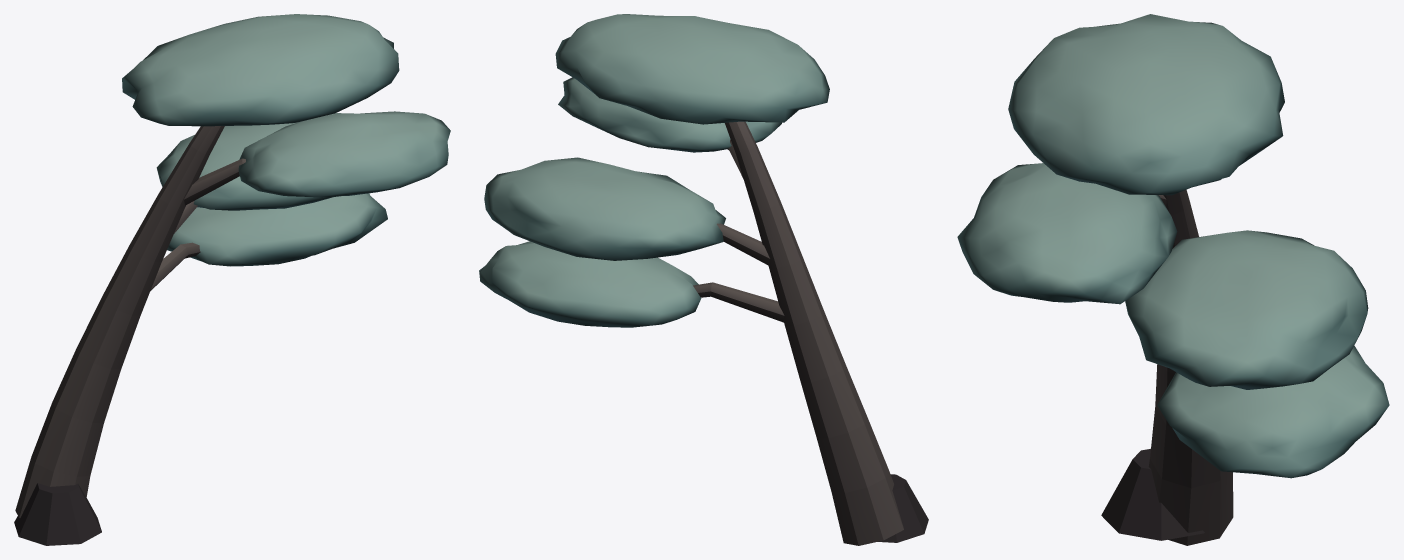
Rendered from pine_large.glb.
The picture shows the model from 3 angles, left to right: view 1: azimuth 30°, elevation 25°; view 2: azimuth 150°, elevation 25°; view 3: azimuth 270°, elevation 25°; orthographic projection. The views are drawn at different scales.
Visible parts, largest first — view 1: Pine_Large; view 2: Pine_Large; view 3: Pine_Large.
Part boxes in pixels (<box>): Pine_Large: <box>14,14,450,545</box>; Pine_Large: <box>479,14,928,545</box>; Pine_Large: <box>957,14,1389,545</box>.
Size of what is drawn, in the model's own units: 4.98 by 5.27 by 3.47.
